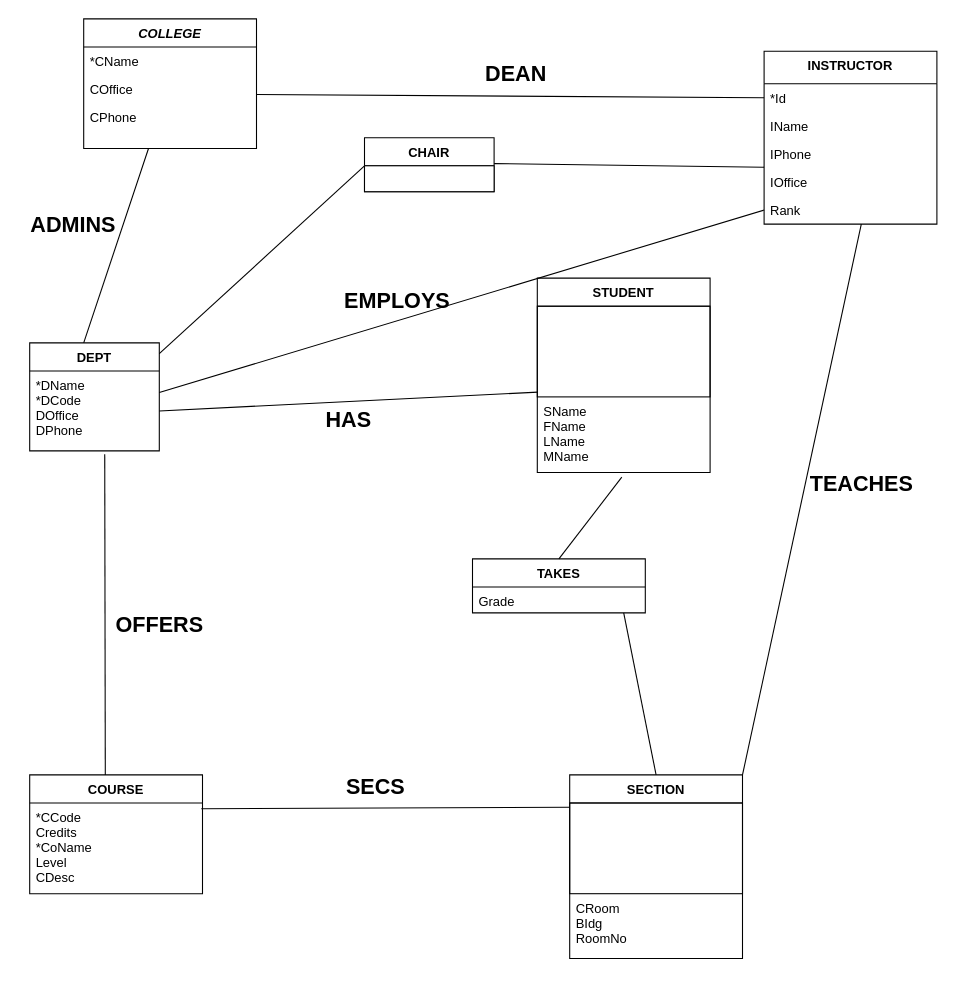
This 956x981 diagram has some shape labels left out. Each missing label, with the centre of its shape:
*SecId SecNo Sem Year DaysTime: the point at 655,848
*SId DOB Addr Phone Major: the point at 623,351
CStartDate: the point at 428,178
